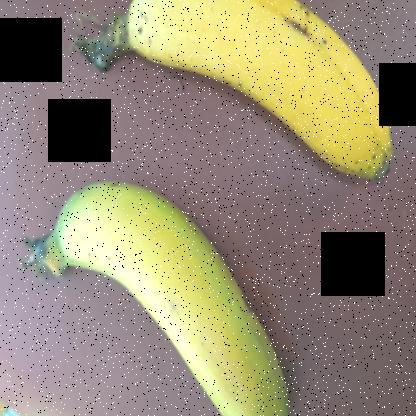freshripe: (39, 159, 284, 415), (91, 1, 393, 194)
